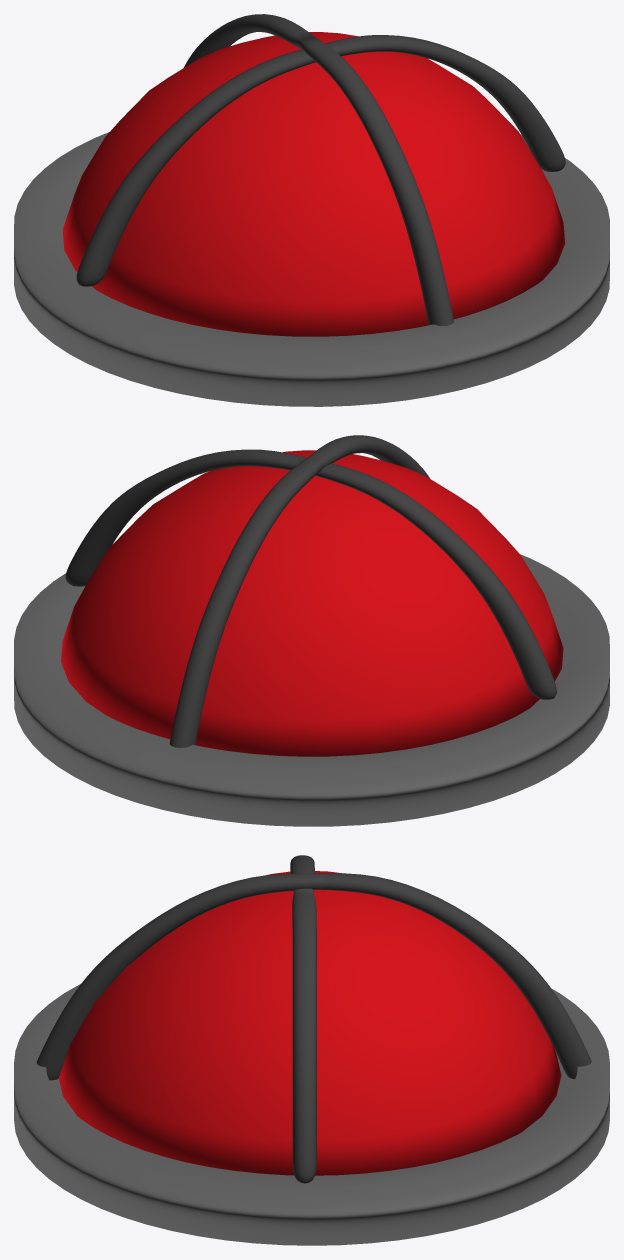
File: redsign.fbx
3 renders of one model, top to bottom at view 1: azimuth 30°, elevation 25°; view 2: azimuth 150°, elevation 25°; view 3: azimuth 270°, elevation 25°, orthographic.
Parts seen in each view (by area): view 1: Sphere, Cylinder, Cube, Cube.001; view 2: Sphere, Cylinder, Cube, Cube.001; view 3: Sphere, Cylinder, Cube.001, Cube.
Boxes of the visible parts, x1,y1,x2,y2 form: Sphere: [62, 32, 565, 336]; Cylinder: [14, 132, 609, 406]; Cube: [76, 35, 565, 286]; Cube.001: [183, 14, 453, 325]; Sphere: [61, 450, 563, 756]; Cylinder: [14, 554, 609, 826]; Cube: [65, 449, 556, 699]; Cube.001: [169, 435, 430, 747]; Sphere: [58, 871, 561, 1175]; Cylinder: [14, 984, 609, 1245]; Cube.001: [36, 873, 591, 1080]; Cube: [290, 855, 316, 1183].
Bounding box in the file's own units: 200 × 89.95 × 200.
